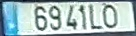1: (76, 3, 87, 31)
4: (65, 4, 78, 31)
6: (32, 5, 47, 32)
9: (47, 4, 62, 30)
L: (87, 3, 104, 30)
O: (101, 3, 119, 29)
